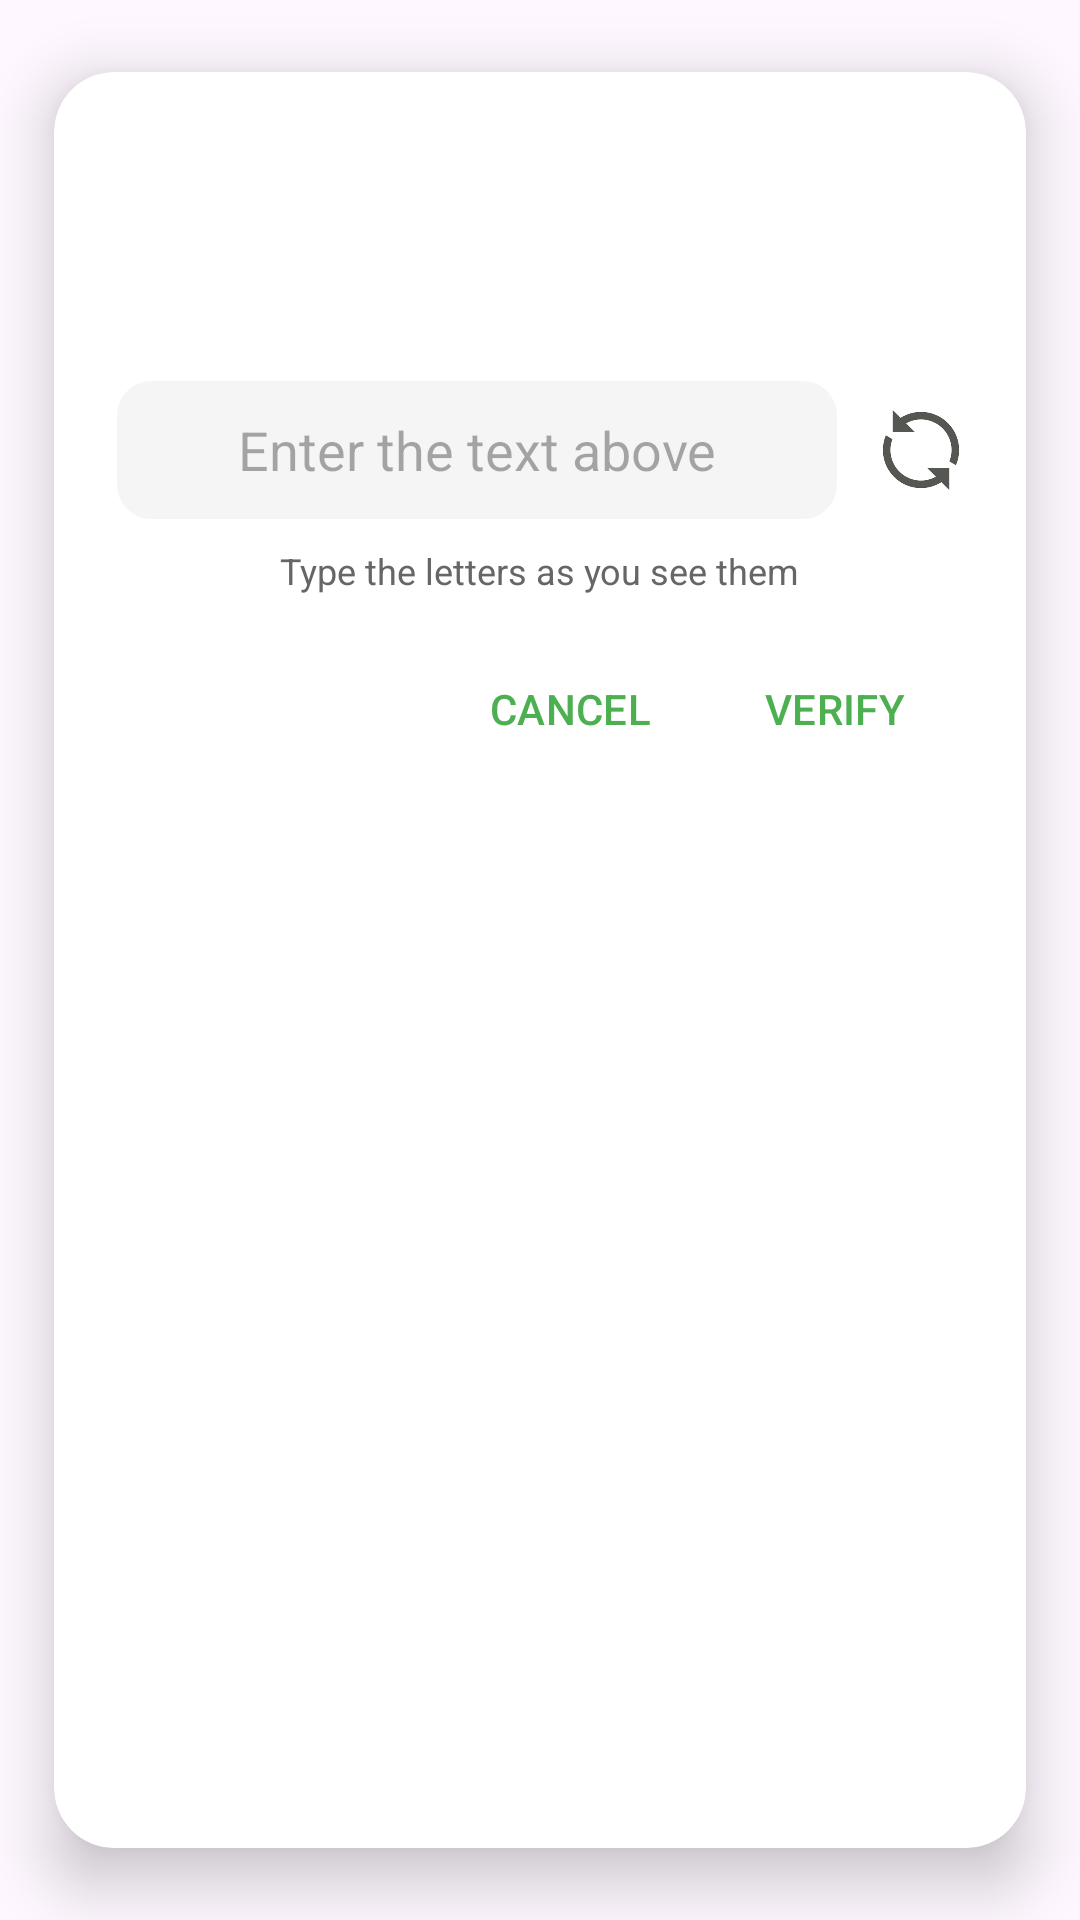

Point at icon controls on the screen. Image size 1080px×1920px, points as (x,y).
refresh: (921,450)
